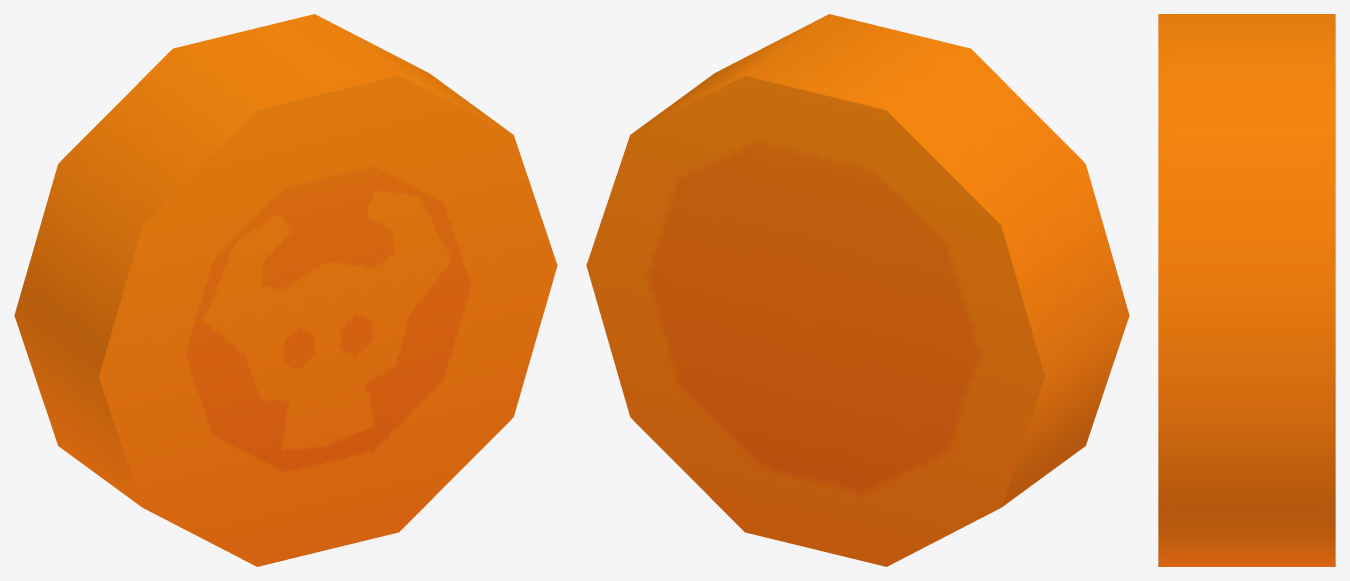
File: Coin_001.glb
3 views of the same model, side by side, from view 1: azimuth 30°, elevation 25°; view 2: azimuth 150°, elevation 25°; view 3: azimuth 270°, elevation 25° (orthographic). The views are drawn at different scales.
Parts seen in each view (by area): view 1: Coin_001; view 2: Coin_001; view 3: Coin_001.
Boxes of the visible parts, <box> form: Coin_001: <box>14,14,557,566</box>; Coin_001: <box>586,14,1129,566</box>; Coin_001: <box>1158,14,1335,566</box>.
Bounding box in the file's own units: 0.3216 × 0.3059 × 0.1024.
1 material, 1 textured.
